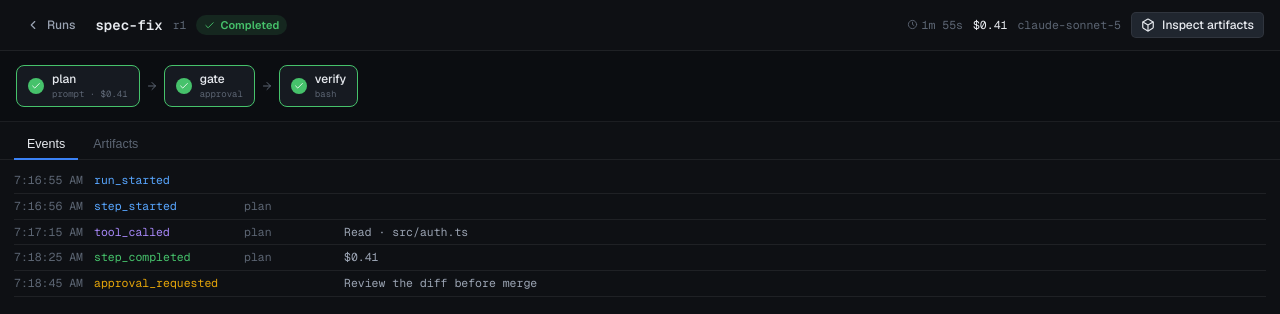
Test case: RunDetail (REQ-DESKTOP-023.A1/A2/A3) › a completed run exposes Inspect artifacts and renders the artifact bodies
expect the text "spec-fix" is shown: met, box [96,15,163,35]
Click the button "Inspect artifacts": (1198, 25) [1131,12,1264,38]
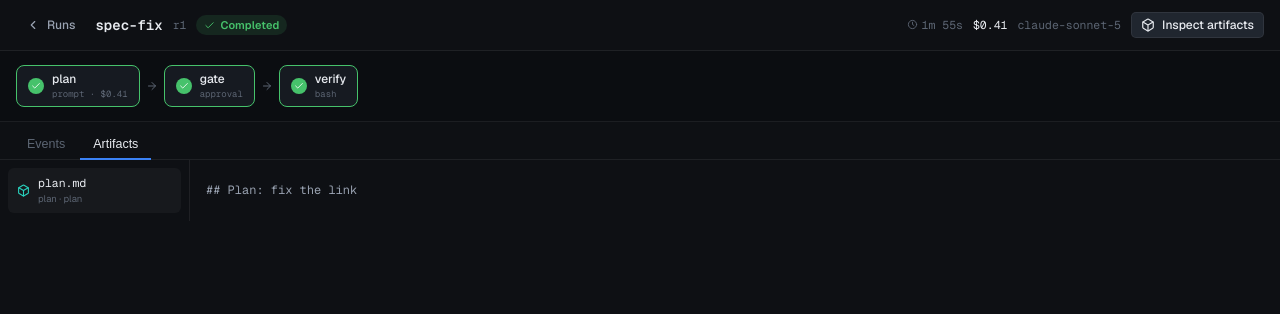
expect the text "plan.md" is shown: met, box [38,175,86,192]
expect the text "## Plan: fix the link" is shown: met, box [206,182,357,198]
